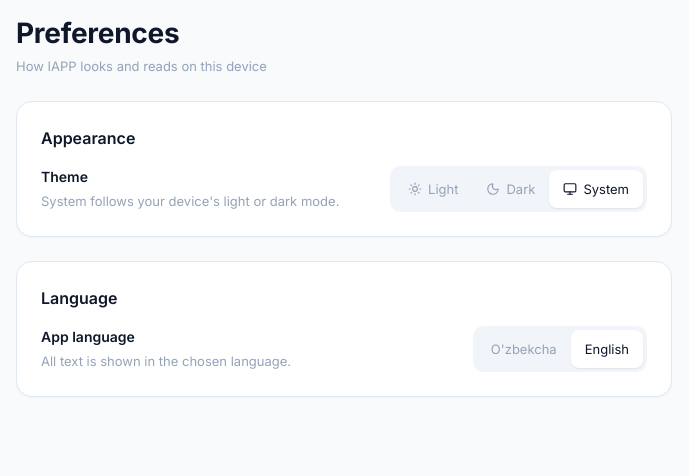
Test: PreferencesPage › switching to Uzbek changes the page at once and is remembered
Expected: the heading "Preferences" is shown, [16, 16, 179, 50]
Click the radio button labelled "O'zbekcha" at (524, 349), box [477, 330, 571, 368]
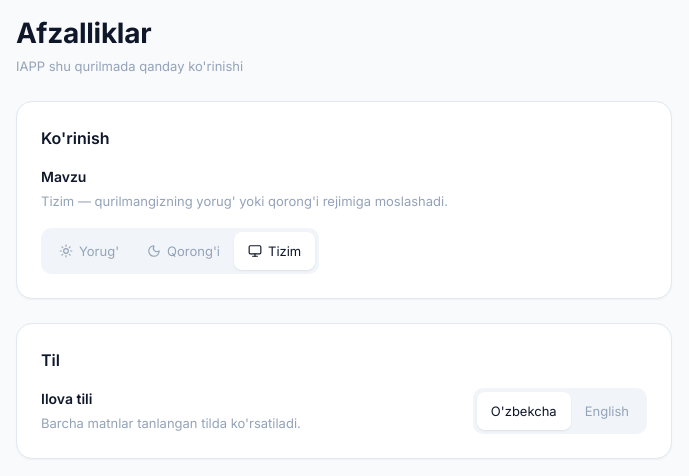
Expected: the heading "Afzalliklar" is shown, [16, 16, 151, 50]
Expected: the text "Ilova tili" is shown, [41, 390, 92, 407]
